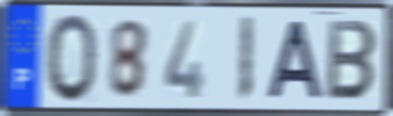4: (162, 18, 206, 101)
8: (107, 17, 150, 101)
A: (265, 18, 326, 102)
B: (324, 17, 380, 104)
I: (235, 14, 256, 105)
O: (45, 11, 99, 106)
